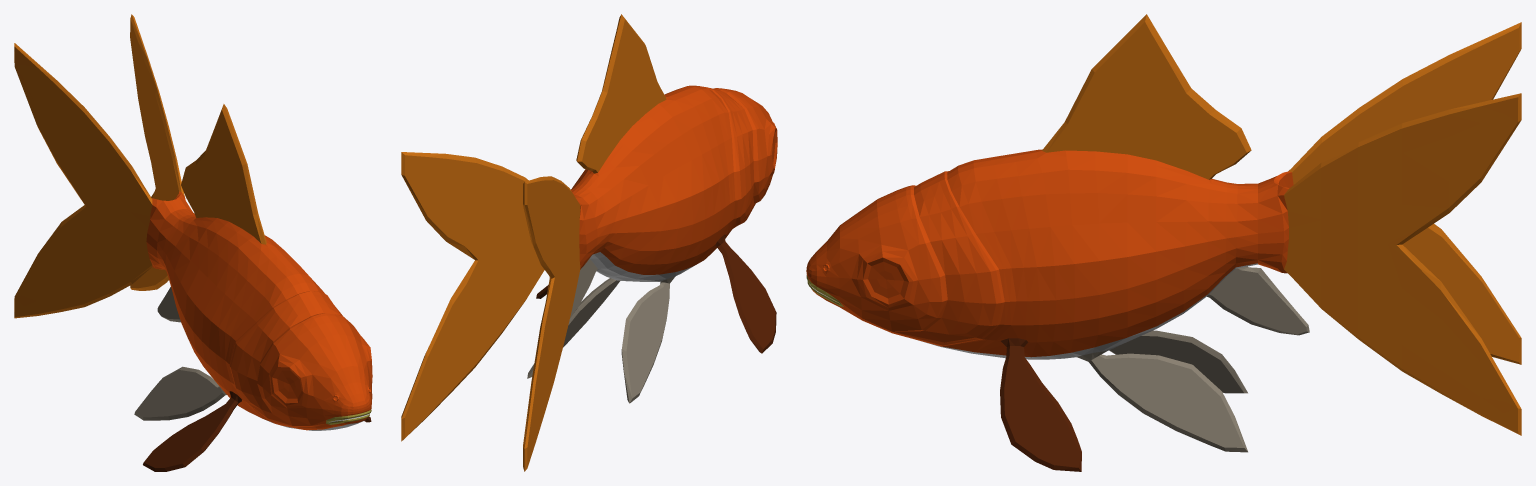
File: goldfish_goldfish_triangulated.obj
The picture shows the model from 3 angles, left to right: view 1: azimuth 30°, elevation 25°; view 2: azimuth 150°, elevation 25°; view 3: azimuth 270°, elevation 25°; orthographic projection. The views are drawn at different scales.
Size of the model in its own units: 0.0859 by 0.1253 by 0.1986.
